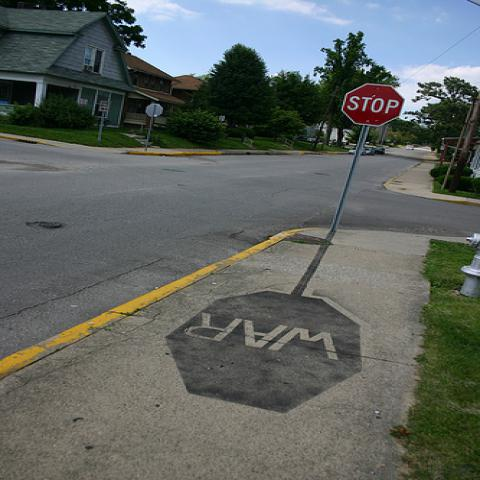car: (348, 146, 375, 156), (406, 145, 414, 149)
